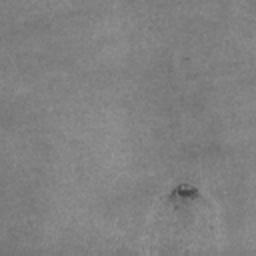Iron sheet ash: (170, 182, 202, 201)
